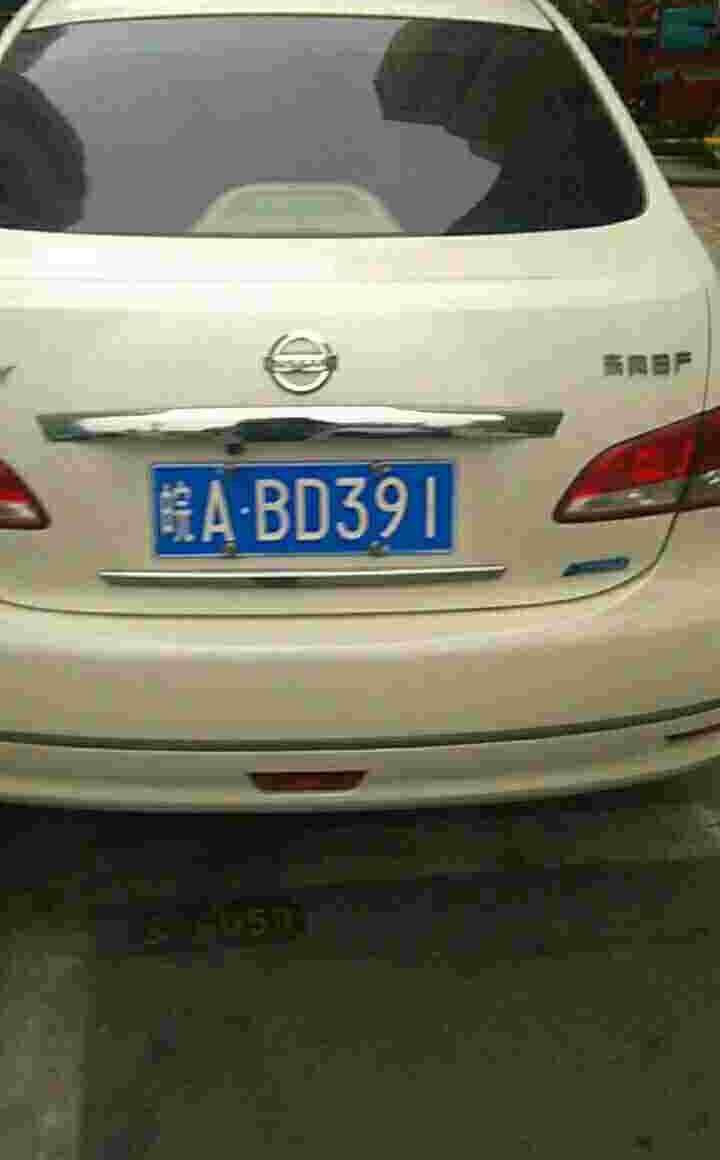license_plate: (148, 464, 457, 565)
